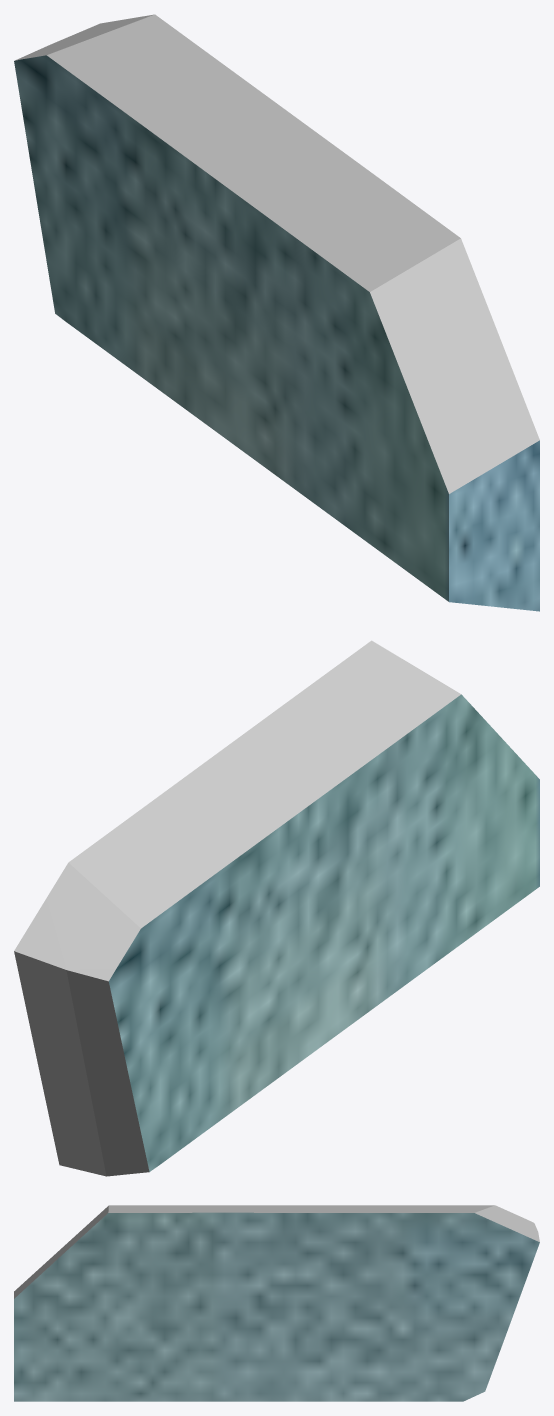
3 renders of one model, top to bottom at view 1: azimuth 30°, elevation 25°; view 2: azimuth 150°, elevation 25°; view 3: azimuth 270°, elevation 25°, orthographic. The views are drawn at different scales.
Visible parts, largest first — view 1: Cube_cell.014_Mesh.014; view 2: Cube_cell.014_Mesh.014; view 3: Cube_cell.014_Mesh.014.
Part boxes in pixels (x1,y1,x2,y2): Cube_cell.014_Mesh.014: [14, 14, 539, 611]; Cube_cell.014_Mesh.014: [14, 640, 539, 1176]; Cube_cell.014_Mesh.014: [14, 1205, 539, 1401].
Bounding box in the file's own units: 0.0832 × 0.2762 × 0.697.
